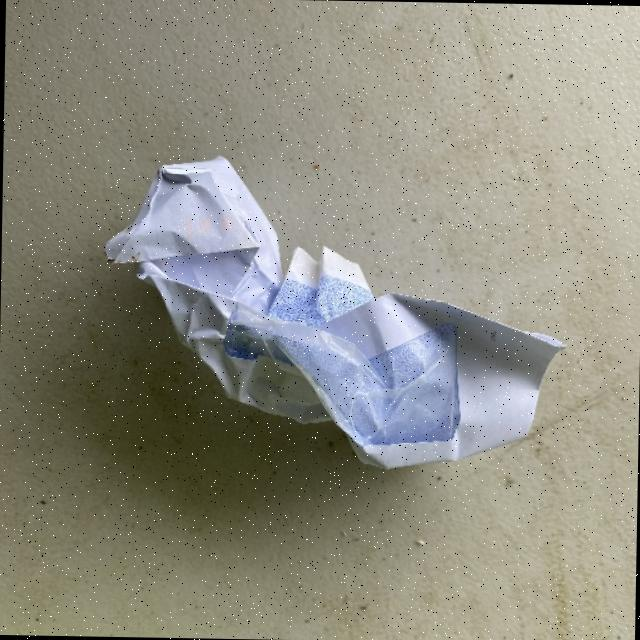paper: (100, 152, 568, 472)
